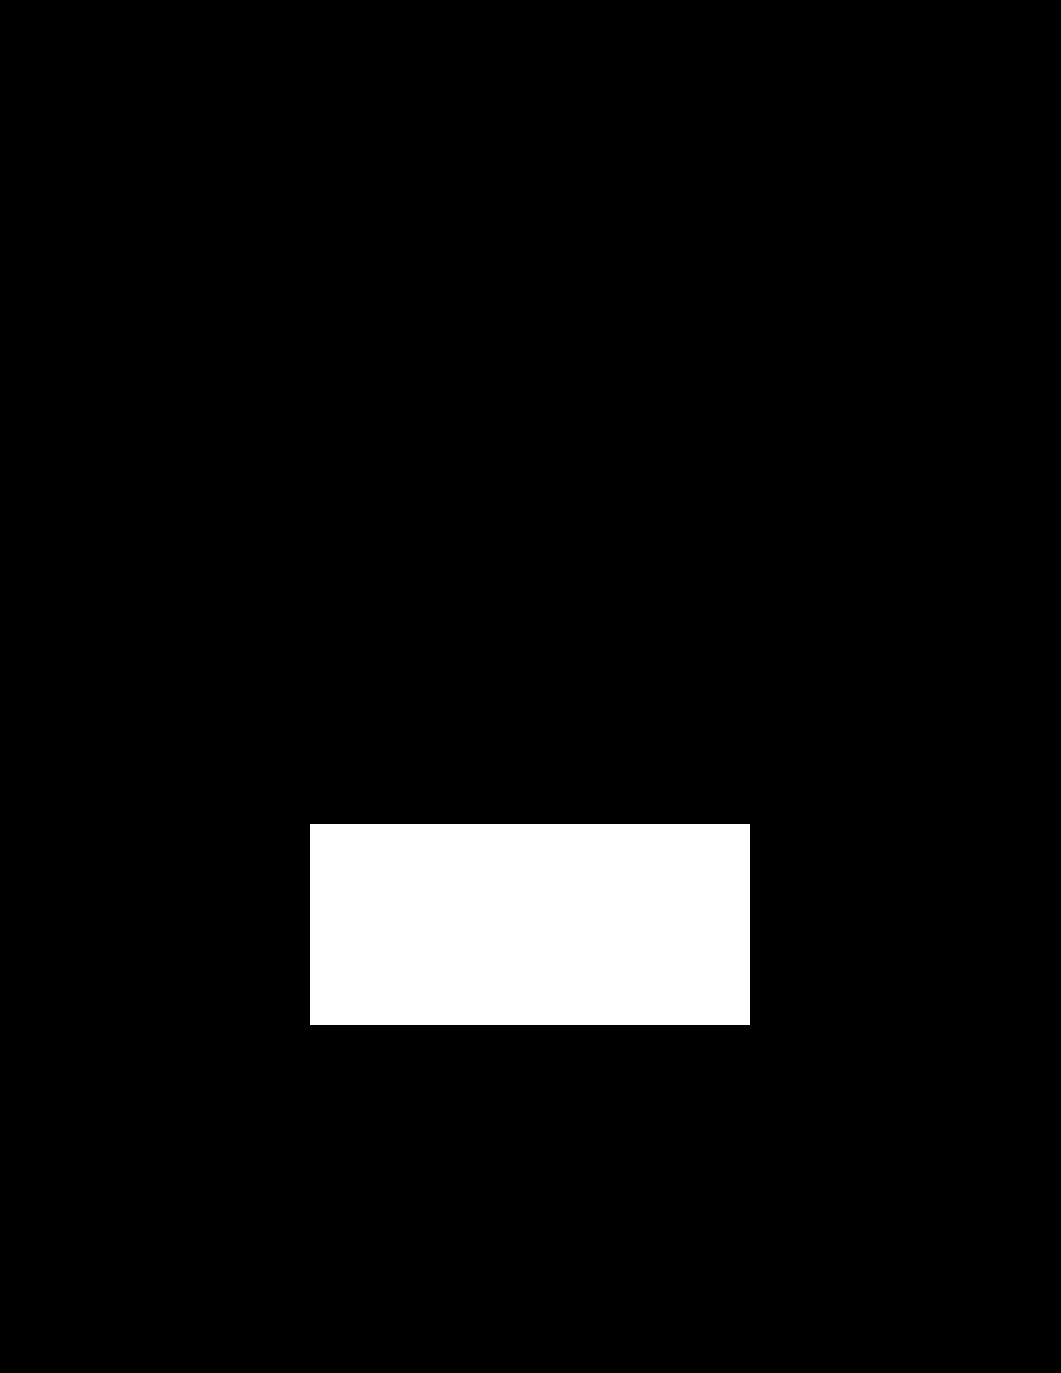table: (310, 824, 749, 1024)
